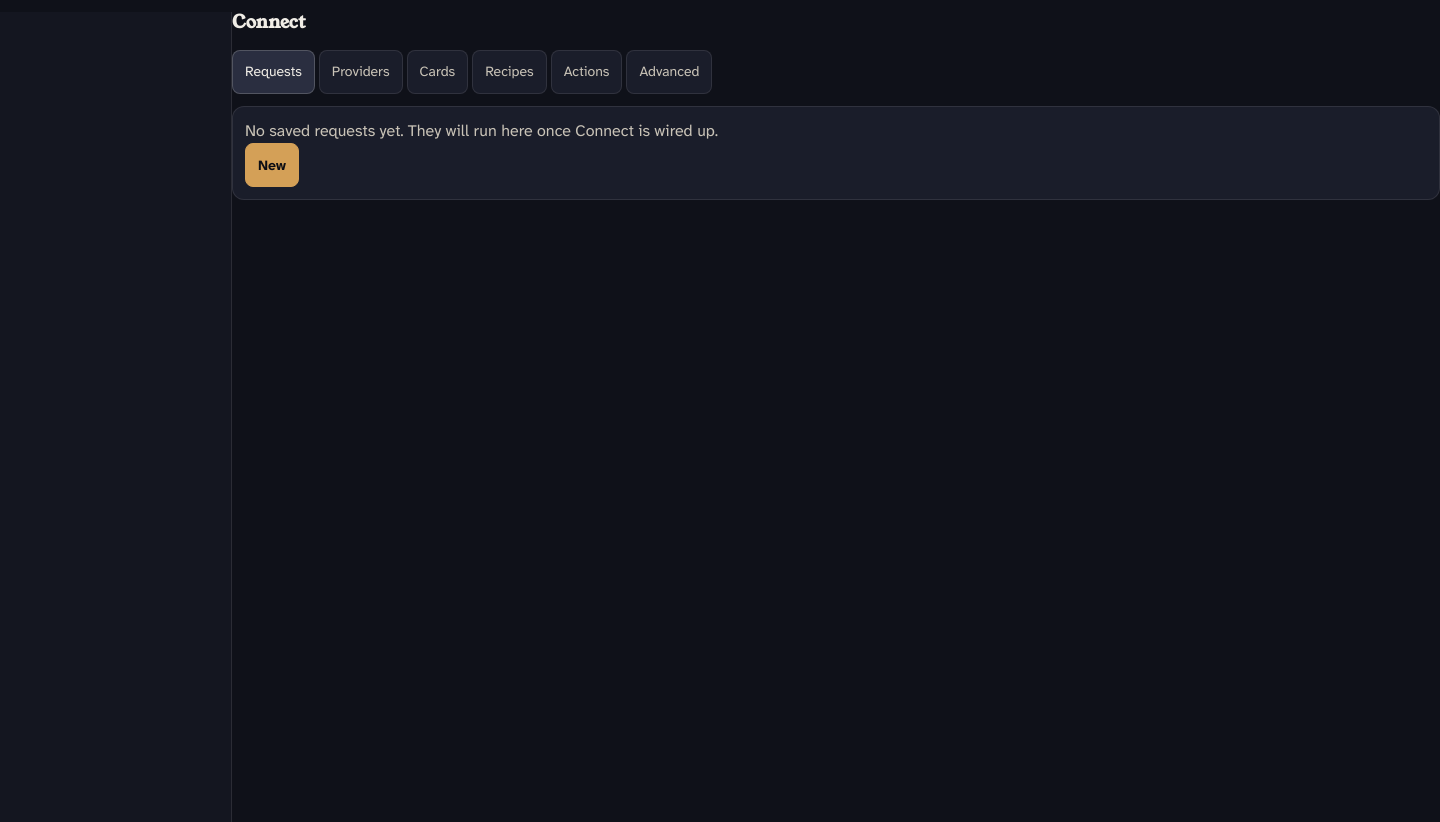
Test: Connect › Advanced: with no errors, says every config file loaded cleanly
This screenshot has width=1440, height=822.
Click the tab "Advanced": (669, 72) [626,50,712,94]
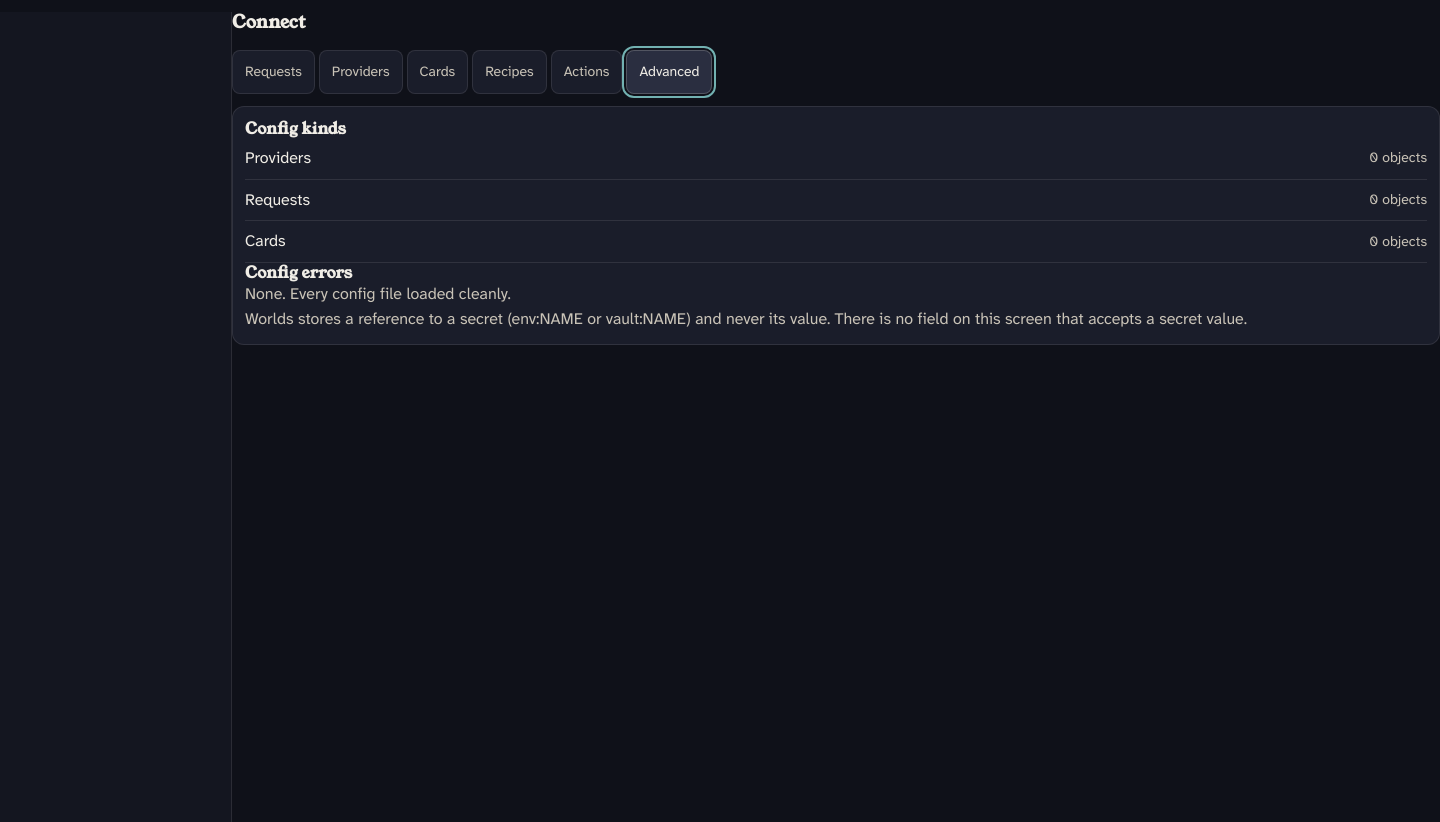
Expected: the text "None. Every config file loaded cleanly." is shown, [245,283,511,304]
